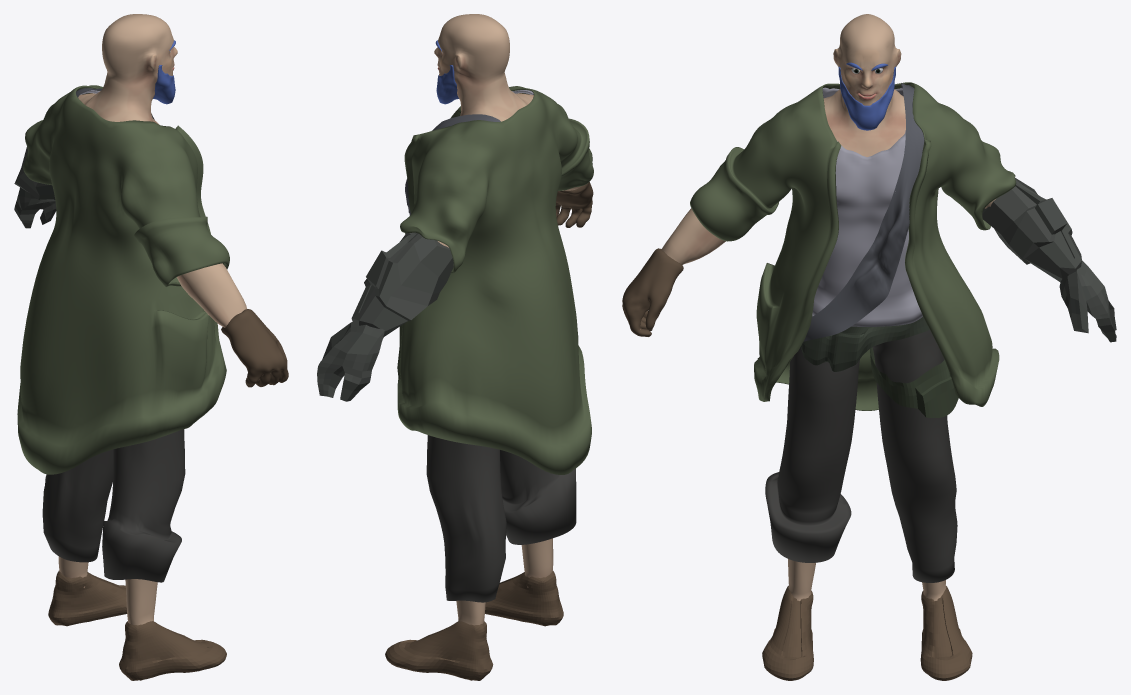
3 views of the same model, side by side, from view 1: azimuth 30°, elevation 25°; view 2: azimuth 150°, elevation 25°; view 3: azimuth 270°, elevation 25° (orthographic). The views are drawn at different scales.
Visible parts, largest first — view 1: chaqueta, pantalon, Cuerpo, zapatos, guante.001, guante, brazo, barba; view 2: chaqueta, pantalon, Cuerpo, zapatos, brazo, guante, guante.001, barba, cinturon 2; view 3: chaqueta, pantalon, Cuerpo, camisa, cinturon 2, zapatos, brazo, guante.001, cinturon, cinturon 3, guante, barba.
Part boxes in pixels (x1,y1,x2,y2): chaqueta: (17, 85, 229, 474); pantalon: (42, 429, 185, 582); Cuerpo: (58, 14, 262, 625); zapatos: (48, 571, 226, 680); guante.001: (221, 309, 288, 387); guante: (14, 187, 56, 228); brazo: (14, 147, 55, 200); barba: (153, 65, 175, 104); chaqueta: (397, 86, 593, 474); pantalon: (426, 435, 576, 602); Cuerpo: (434, 14, 581, 625); zapatos: (385, 570, 563, 680); brazo: (351, 232, 453, 336); guante: (317, 322, 385, 401); guante.001: (555, 182, 593, 227); barba: (436, 65, 458, 104); cinturon 2: (405, 114, 500, 215); chaqueta: (690, 82, 1016, 410); pantalon: (765, 330, 957, 582); Cuerpo: (640, 14, 995, 604); camisa: (812, 87, 922, 326); cinturon 2: (803, 83, 924, 341); zapatos: (762, 586, 972, 680); brazo: (982, 178, 1081, 282); guante.001: (622, 248, 683, 336); cinturon: (801, 315, 929, 371); cinturon 3: (870, 347, 958, 417); guante: (1059, 260, 1116, 342); barba: (838, 66, 895, 130).
Size of the model in its own units: 56.36 by 213 by 149.
